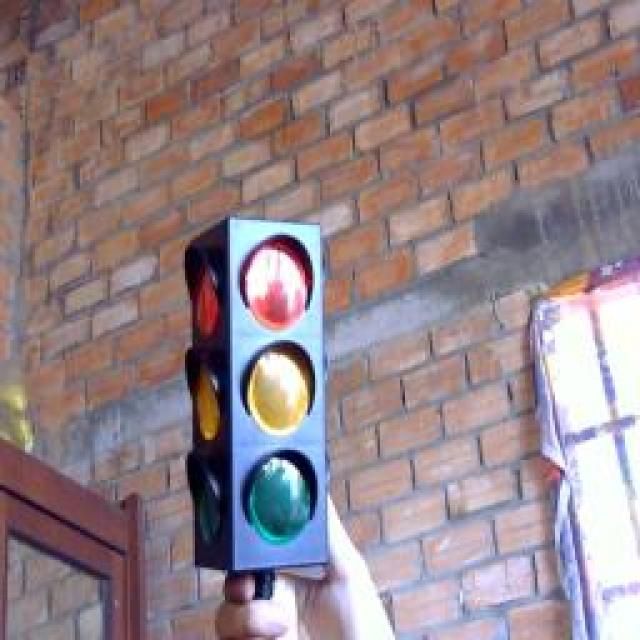-: (231, 225, 319, 340)
